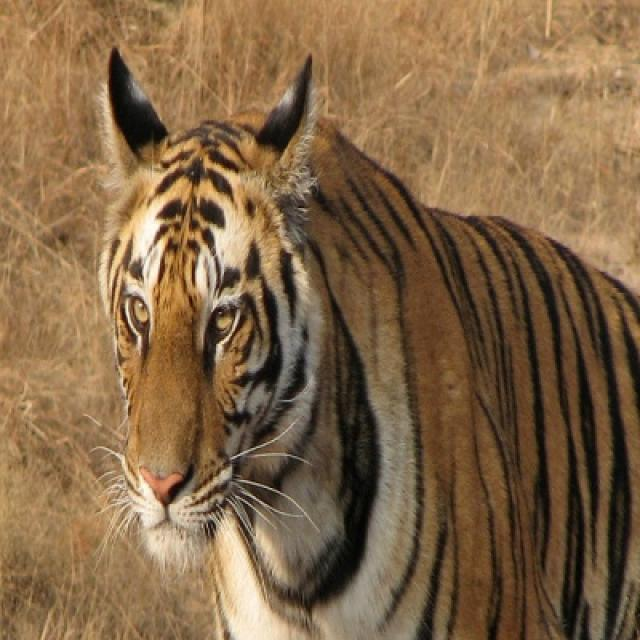Tiger: (95, 44, 638, 638)
